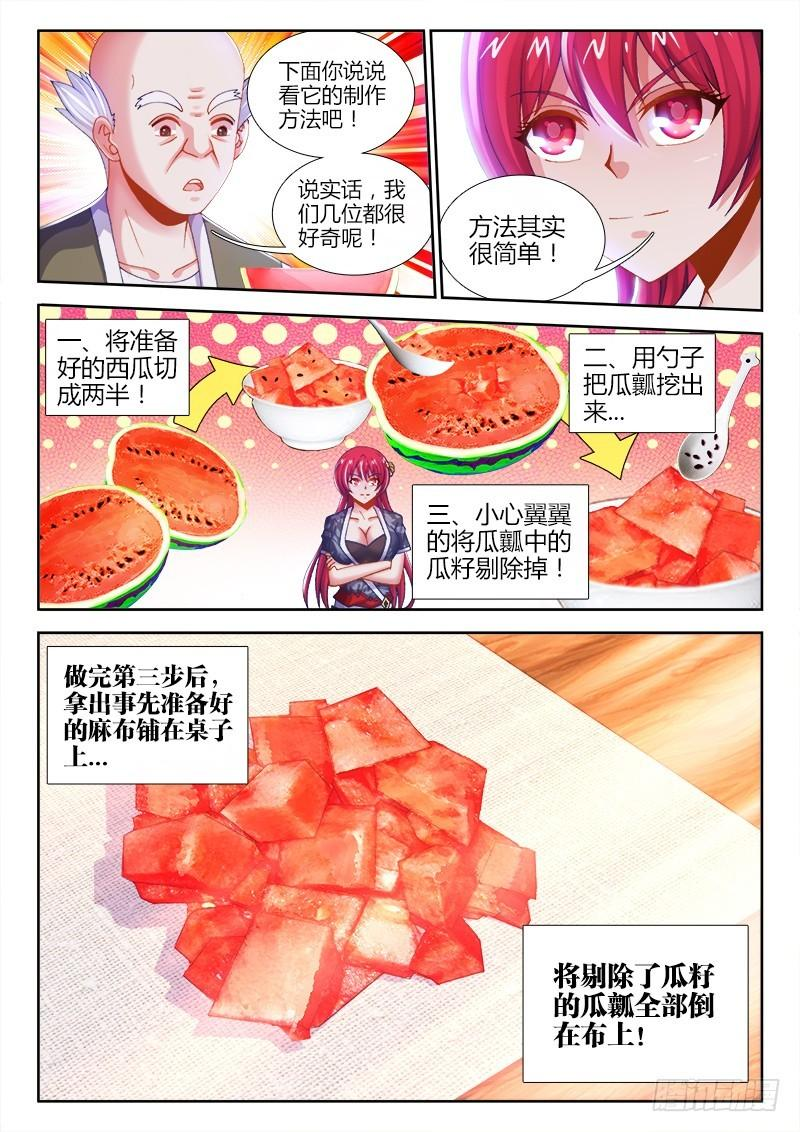boxCube: (519, 922, 750, 1084), (42, 643, 249, 787), (408, 479, 594, 601), (564, 332, 720, 434), (42, 314, 192, 419)
boxEllipse: (435, 173, 615, 302), (243, 29, 417, 155), (264, 158, 435, 275)
minBox: (30, 628, 768, 1102), (30, 302, 768, 613), (30, 24, 434, 301), (429, 23, 765, 314)
